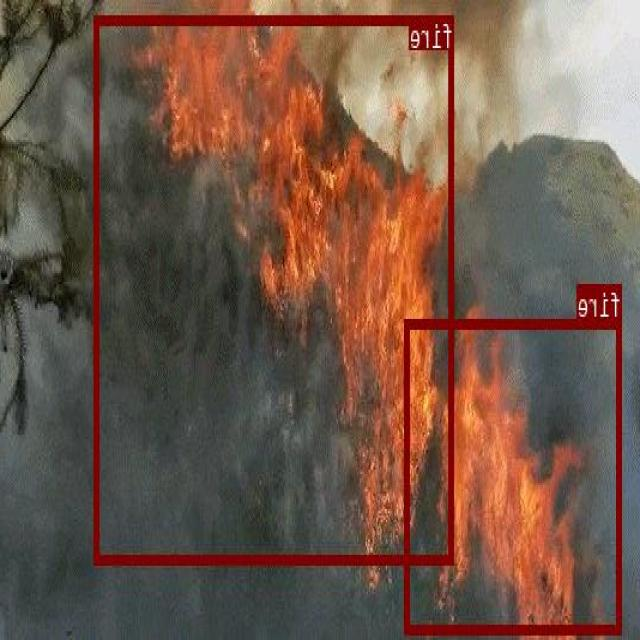fire: (96, 13, 455, 563), (406, 318, 623, 632)
